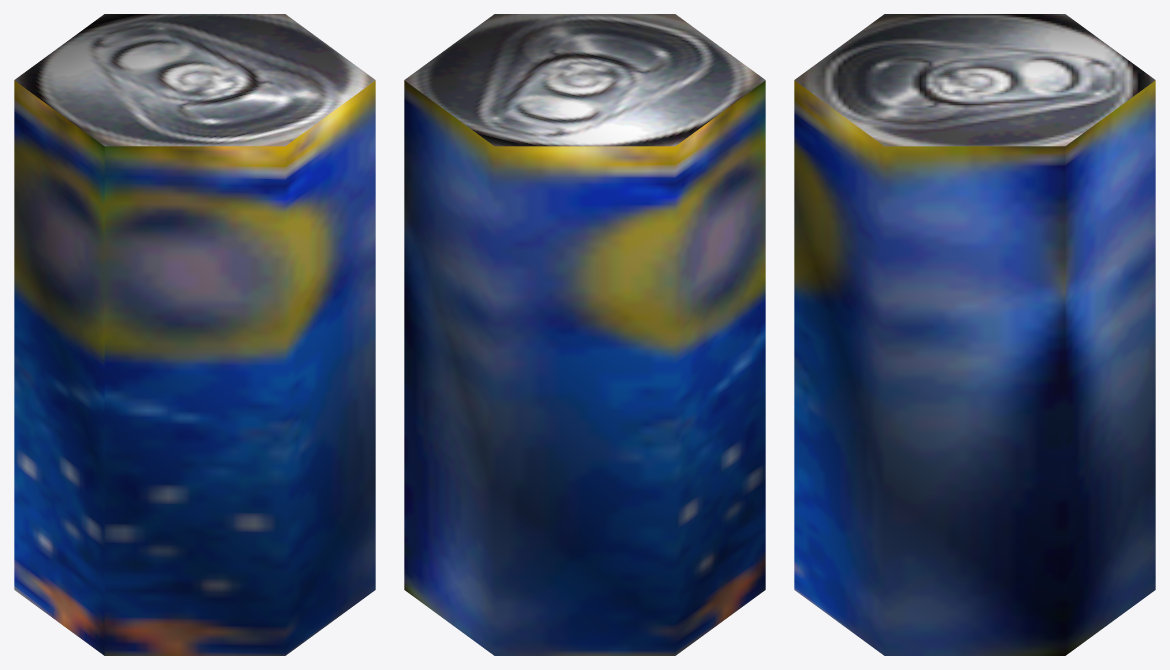
The model's file is can_3.glb.
3 views of the same model, side by side, from view 1: azimuth 30°, elevation 25°; view 2: azimuth 150°, elevation 25°; view 3: azimuth 270°, elevation 25° (orthographic).
Parts seen in each view (by area): view 1: Can_3; view 2: Can_3; view 3: Can_3.
Part boxes in pixels (x1,y1,x2,y2): Can_3: (14, 14, 375, 655); Can_3: (404, 14, 765, 655); Can_3: (794, 14, 1155, 655).
Bounding box in the file's own units: 0.1956 × 0.3512 × 0.2259.
Materials: 1 (1 with a texture image).
